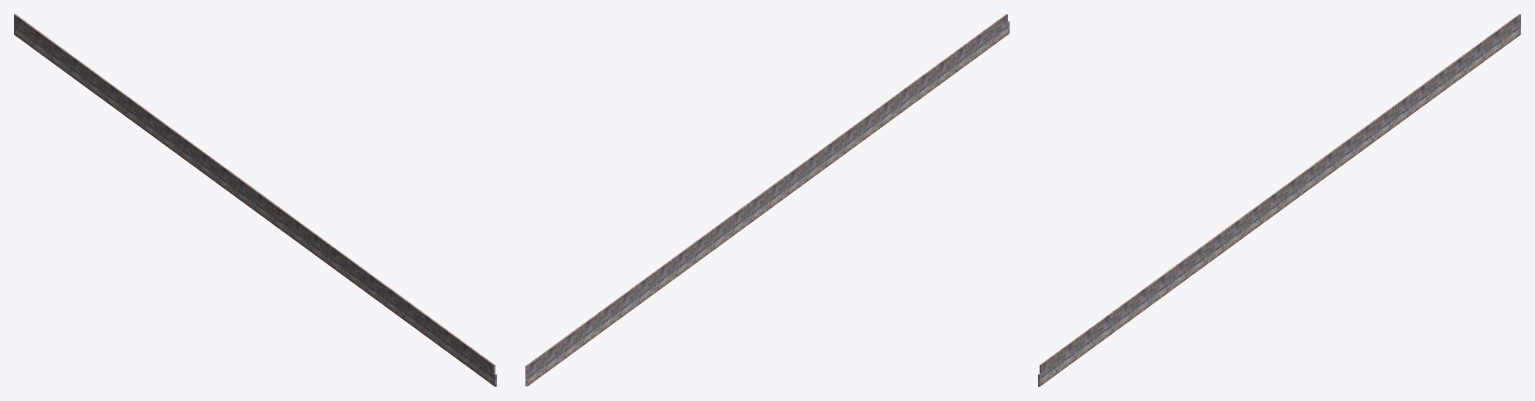
File: vgssredbrix02.obj
3 renders of one model, left to right at view 1: azimuth 30°, elevation 25°; view 2: azimuth 150°, elevation 25°; view 3: azimuth 330°, elevation 25°, orthographic.
Parts seen in each view (by area): view 1: vgsSredbrix02; view 2: vgsSredbrix02; view 3: vgsSredbrix02.
Part boxes in pixels (bbox=[...]): vgsSredbrix02: bbox=[14, 14, 496, 386]; vgsSredbrix02: bbox=[525, 14, 1009, 386]; vgsSredbrix02: bbox=[1038, 14, 1520, 386].
Size of the model in its own units: 0.35 by 4.2 by 180.
1 material, 1 textured.
